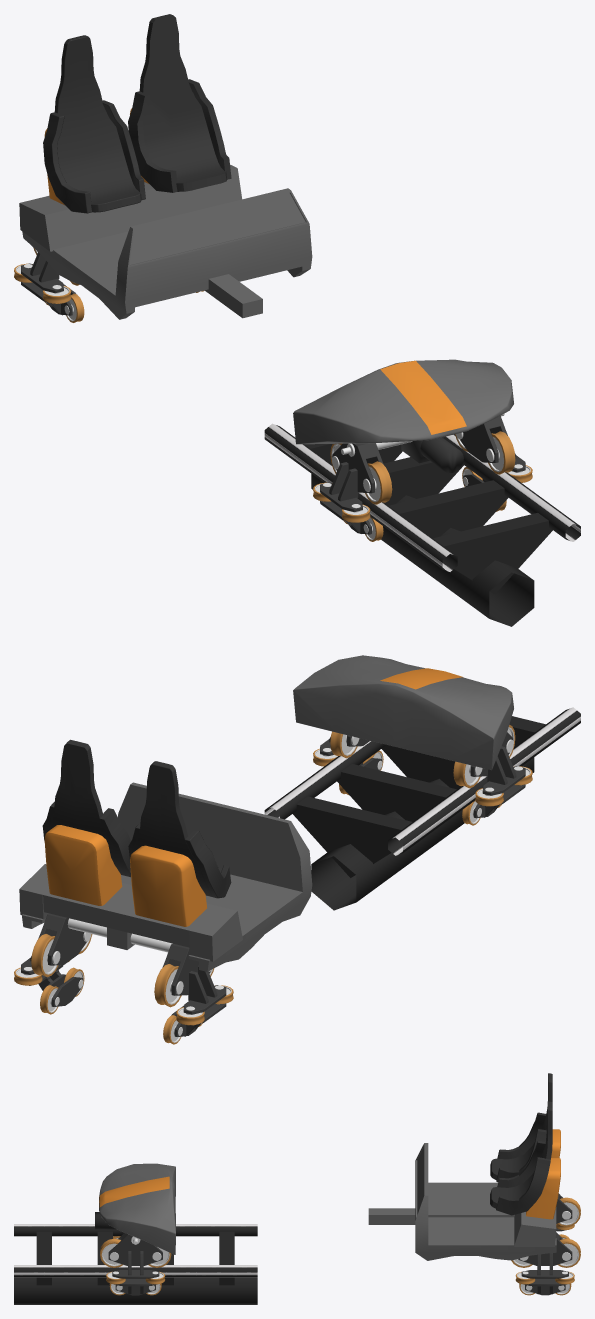
Rendered from SimpleTrain.fbx.
3 renders of one model, top to bottom at view 1: azimuth 30°, elevation 25°; view 2: azimuth 150°, elevation 25°; view 3: azimuth 270°, elevation 25°, orthographic. The views are drawn at different scales.
Visible parts, largest first — view 1: CarMid, main_track_L_simple_tracks.blend, CarFront, Seat.001, Seat, Collection|main_track_L_simple_tracks.blend|Dupli|, Bogie, Wheels, Bogie.001|Bogie|Dupli|, Bogie.001|Wheels|Dupli|1; view 2: CarMid, CarFront, Collection|main_track_L_simple_tracks.blend|Dupli|, Seat.001, Seat, Bogie.001|Bogie|Dupli|, main_track_L_simple_tracks.blend, Bogie.001|Wheels|Dupli|1, Wheels, Bogie; view 3: CarMid, main_track_L_simple_tracks.blend, Collection|main_track_L_simple_tracks.blend|Dupli|, CarFront, Seat, Seat.001, Bogie, Bogie.001|Bogie|Dupli|, Bogie.001|Wheels|Dupli|1, Wheels.
Part boxes in pixels (box(x1,y1,x2,y2)): CarMid: box(19, 164, 312, 319); main_track_L_simple_tracks.blend: box(358, 461, 580, 626); CarFront: box(293, 359, 513, 473); Seat.001: box(43, 35, 145, 213); Seat: box(128, 14, 231, 192); Collection|main_track_L_simple_tracks.blend|Dupli|: box(264, 423, 480, 553); Bogie: box(320, 413, 525, 534); Wheels: box(313, 431, 532, 541); Bogie.001|Bogie|Dupli|: box(21, 251, 75, 315); Bogie.001|Wheels|Dupli|1: box(14, 248, 204, 322); CarMid: box(19, 782, 312, 971); CarFront: box(293, 655, 513, 769); Collection|main_track_L_simple_tracks.blend|Dupli|: box(264, 745, 487, 910); Seat.001: box(128, 761, 231, 926); Seat: box(42, 739, 130, 905); Bogie.001|Bogie|Dupli|: box(21, 913, 226, 1036); main_track_L_simple_tracks.blend: box(365, 707, 580, 836); Bogie.001|Wheels|Dupli|1: box(14, 932, 233, 1044); Wheels: box(313, 725, 532, 825); Bogie: box(320, 732, 525, 818); CarMid: box(368, 1143, 556, 1260); main_track_L_simple_tracks.blend: box(14, 1224, 135, 1304); Collection|main_track_L_simple_tracks.blend|Dupli|: box(135, 1224, 257, 1304); CarFront: box(95, 1163, 175, 1254); Seat: box(490, 1101, 560, 1219); Seat.001: box(490, 1073, 560, 1182); Bogie: box(108, 1233, 162, 1295); Bogie.001|Bogie|Dupli|: box(518, 1193, 572, 1295); Bogie.001|Wheels|Dupli|1: box(511, 1197, 580, 1295); Wheels: box(100, 1236, 171, 1295).
Bounding box in the file's own units: 1.31 × 1.95 × 4.66.
